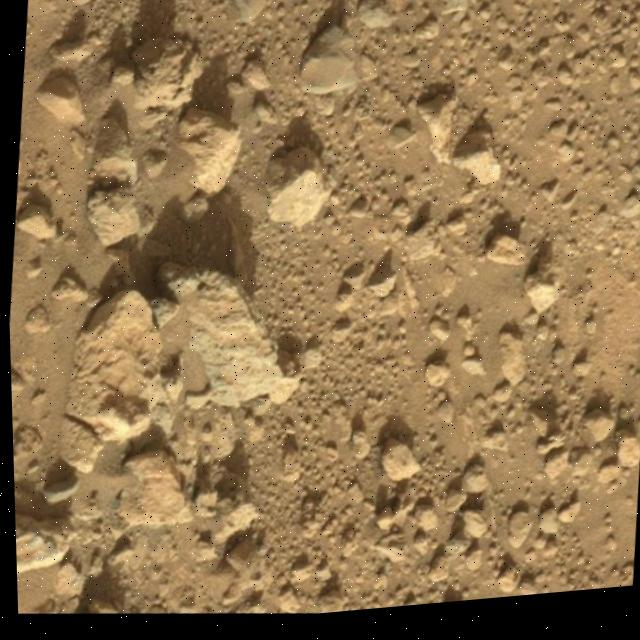mars-rocks: (154, 264, 289, 411), (61, 291, 158, 442), (112, 453, 188, 528), (176, 110, 236, 197), (264, 152, 329, 231), (296, 29, 356, 98), (12, 515, 69, 574)
